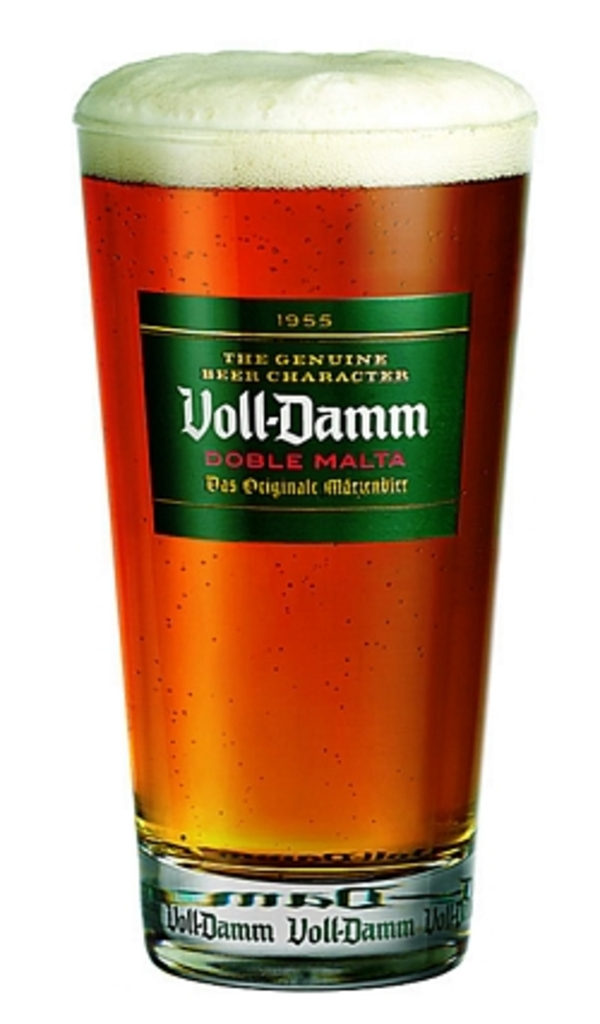Beer: (72, 45, 543, 994)
